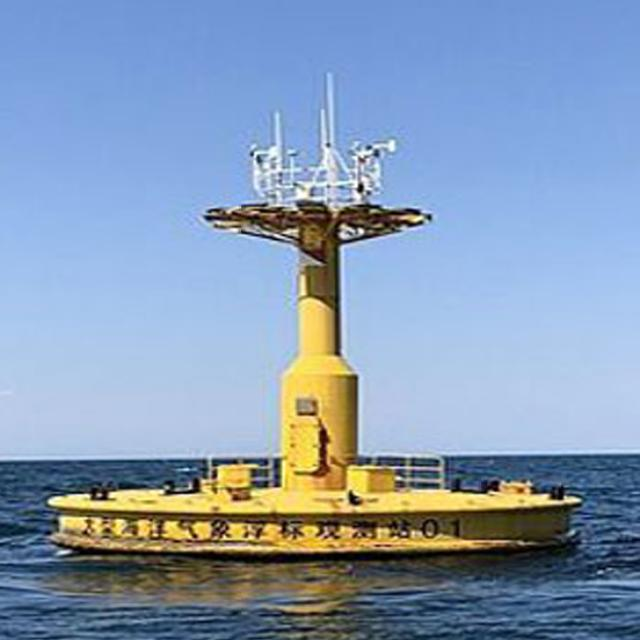buoy: (56, 112, 582, 555)
